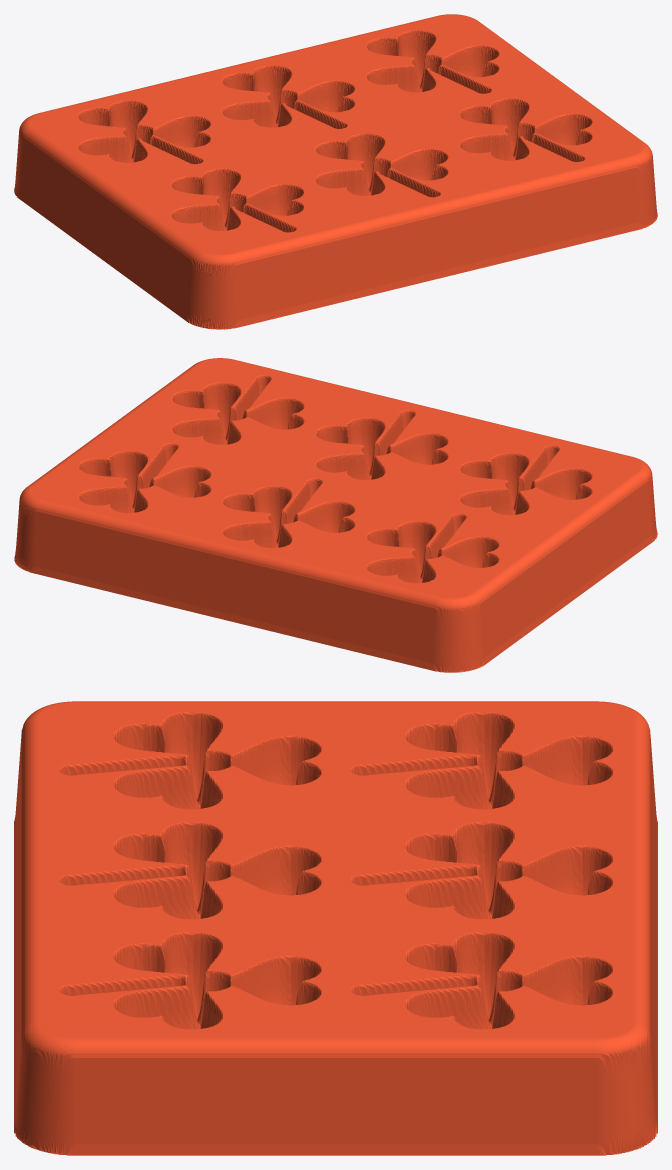
Rendered from mold.glb.
3 views of the same model, one above another, from view 1: azimuth 30°, elevation 25°; view 2: azimuth 150°, elevation 25°; view 3: azimuth 270°, elevation 25° (orthographic). The views are drawn at different scales.
Parts seen in each view (by area): view 1: geometry_0; view 2: geometry_0; view 3: geometry_0.
Part boxes in pixels (bbox=[...]): geometry_0: bbox=[14, 14, 657, 329]; geometry_0: bbox=[14, 358, 657, 672]; geometry_0: bbox=[14, 701, 657, 1155].
Bounding box in the file's own units: 0.1248 × 0.0175 × 0.0955.
